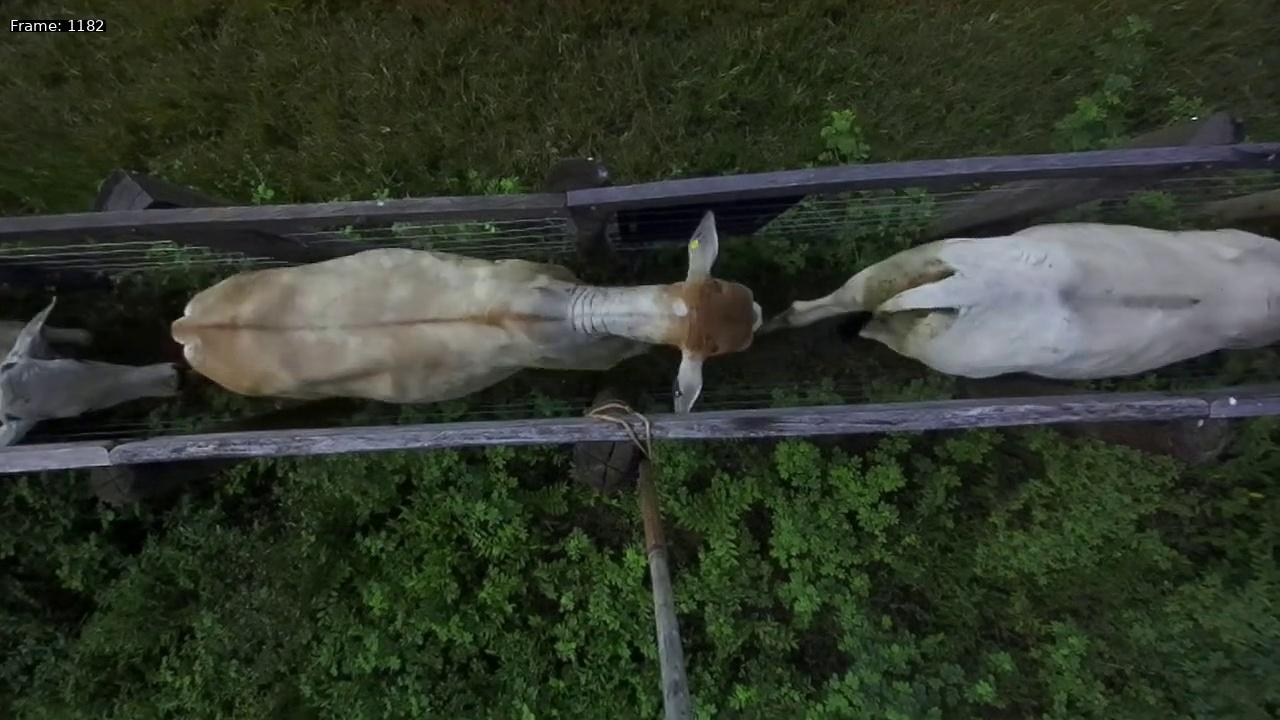cattle: (159, 194, 773, 421)
